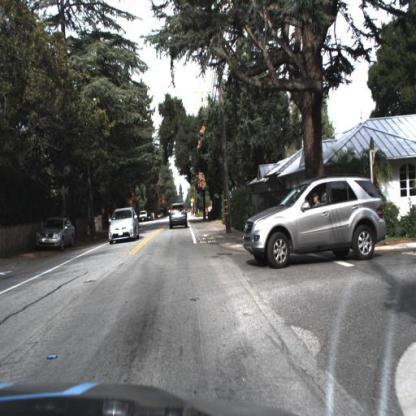car: (242, 178, 390, 272), (33, 214, 82, 254), (35, 213, 76, 250), (108, 205, 140, 245), (167, 208, 188, 238)
